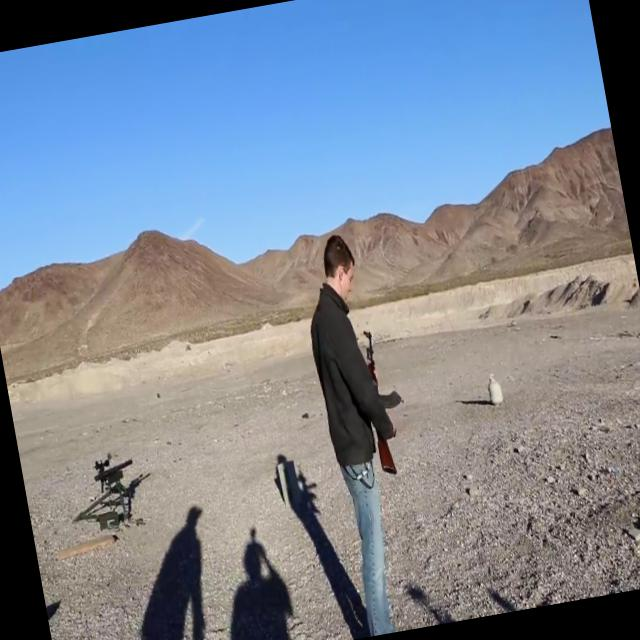long weapon: (351, 316, 417, 482), (69, 422, 151, 532)
